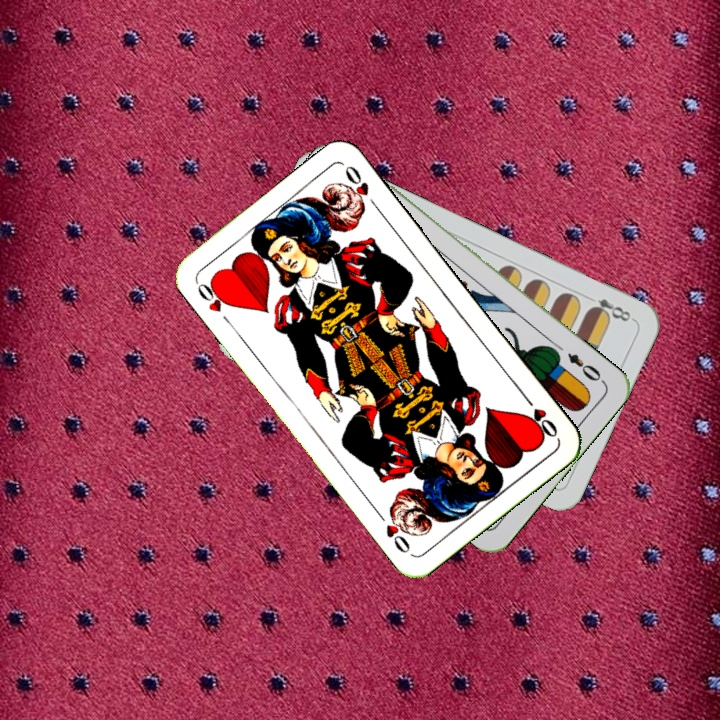E8: (585, 294, 636, 325)
EO: (563, 349, 608, 386)
HO: (519, 391, 561, 441), (192, 275, 234, 315)
